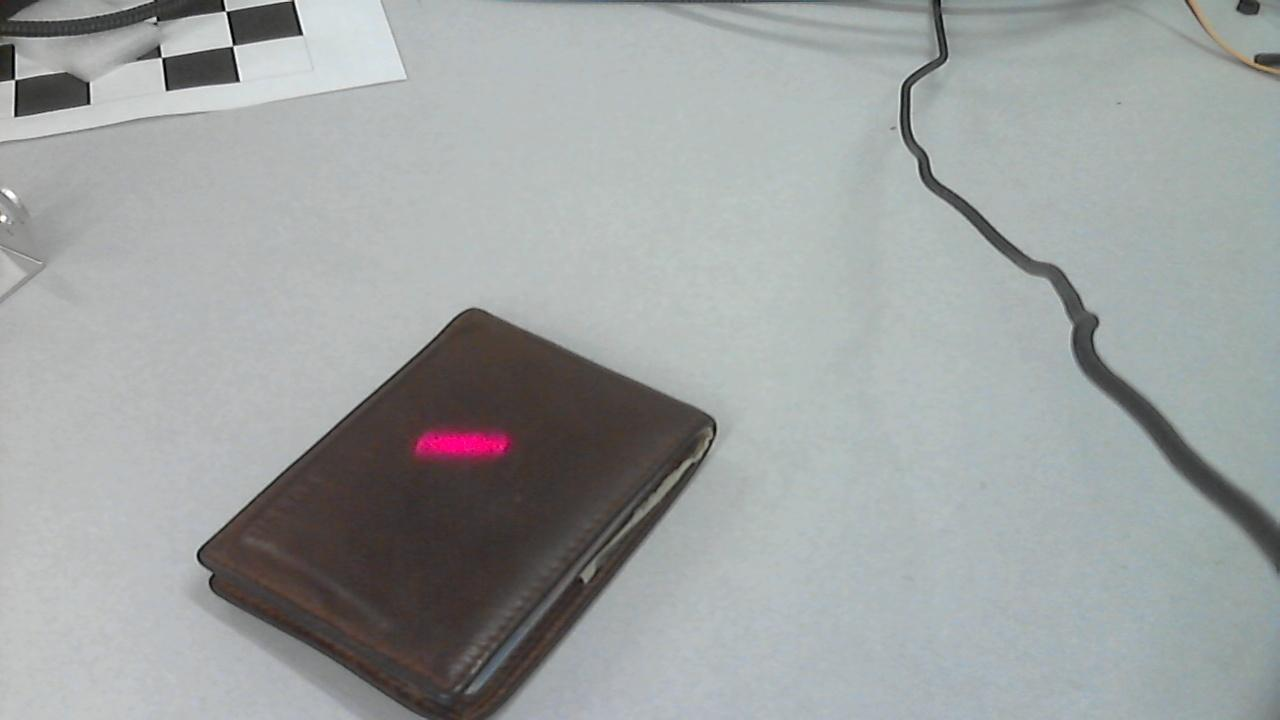Object bifold wallet - Material leather - Pdfname qb3CMu4EyzEc: (395, 424, 526, 466)
